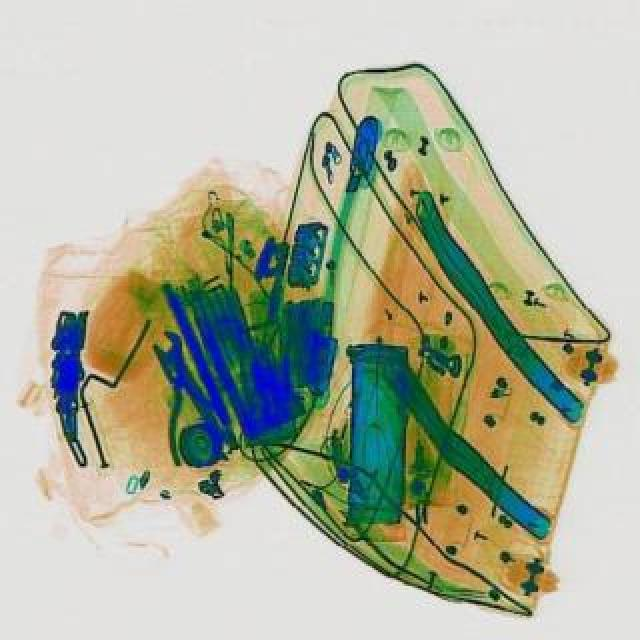scissors: (142, 322, 248, 462)
wrench: (138, 344, 238, 466)
